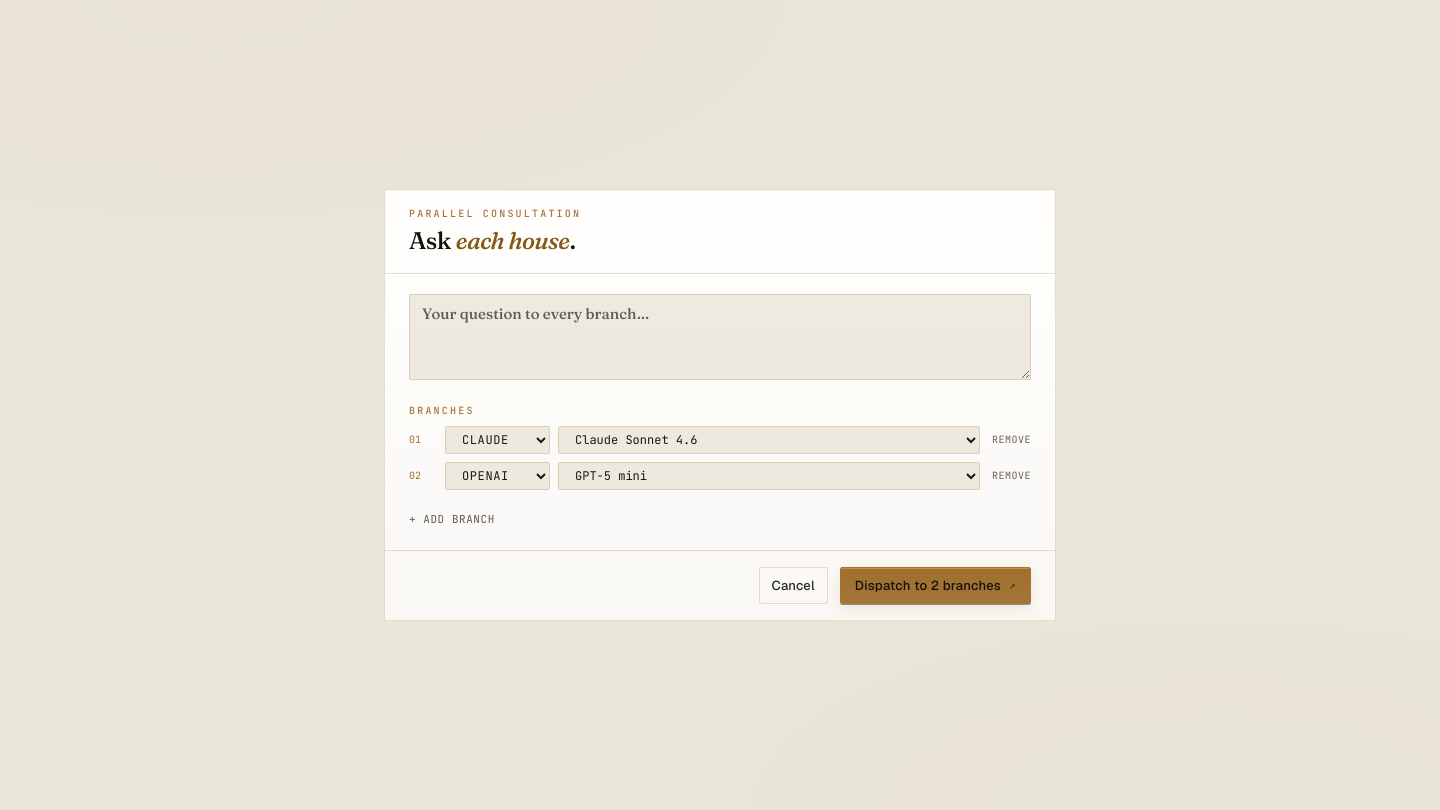
Test: CompareDialog › clicking + add branch adds a third branch label
Expected: the text "01" is shown, [409,433,421,446]
Expected: the text "02" is shown, [409,469,421,482]
Click the button "+ add branch". click: coordinates (452, 519)
box: [409,510,495,527]
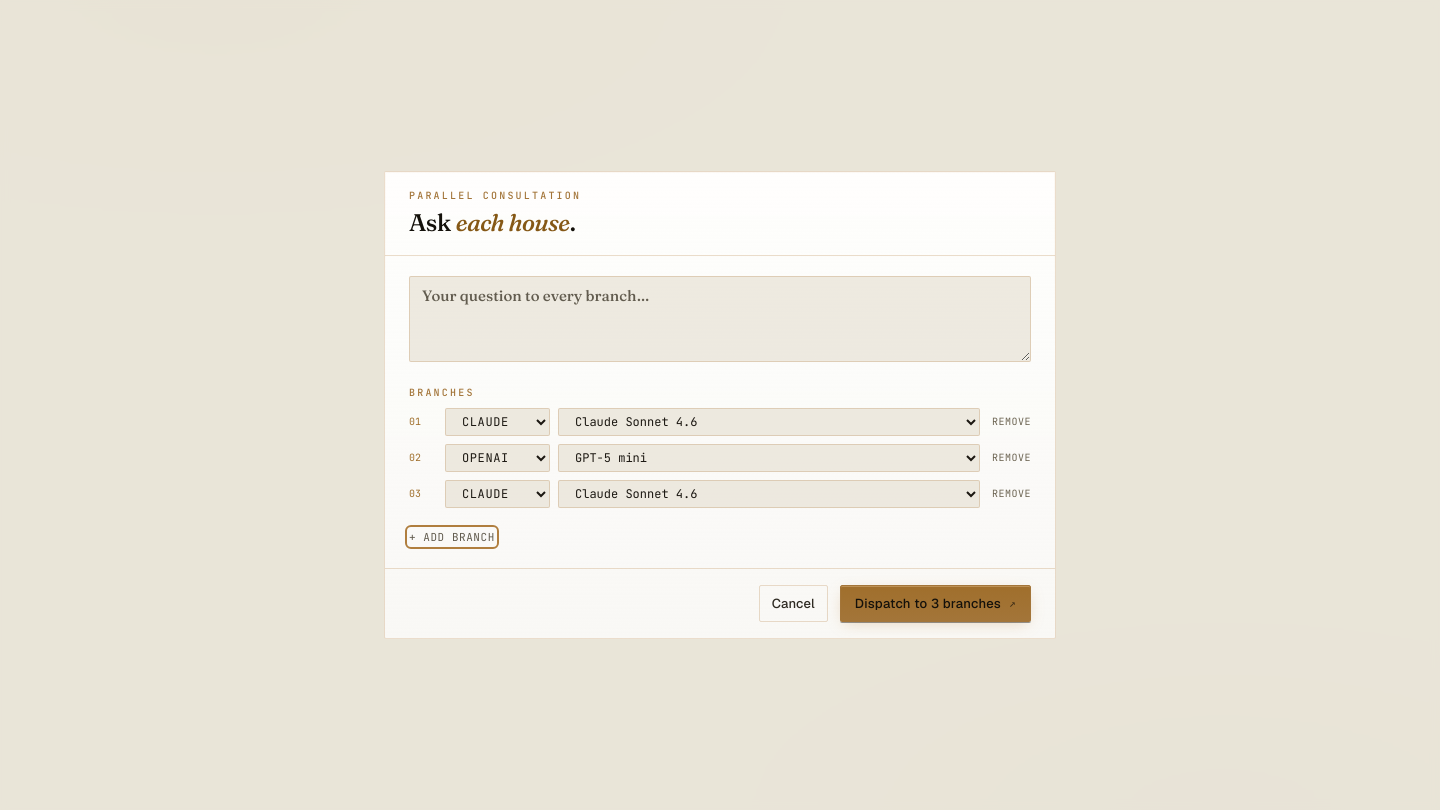
Expected: the text "03" is shown, [409,487,421,500]
